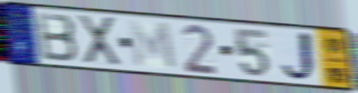2: (178, 22, 219, 76)
5: (231, 27, 273, 79)
B: (34, 10, 81, 64)
J: (279, 29, 320, 85)
M: (127, 18, 180, 72)
X: (75, 13, 124, 67)
